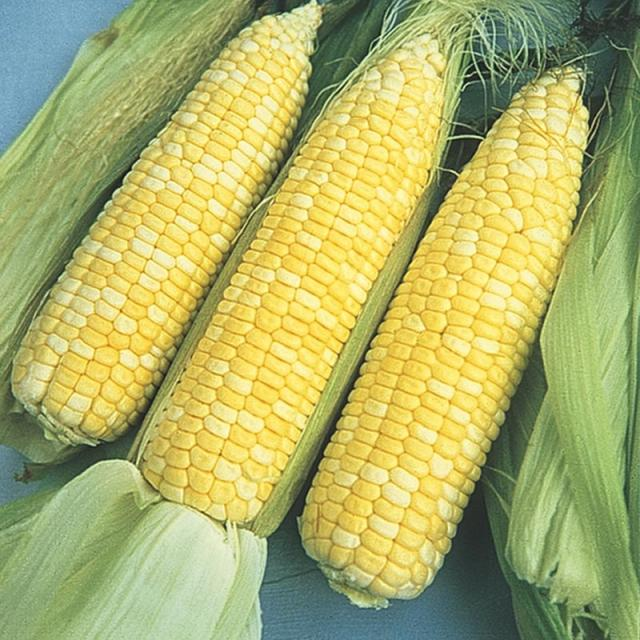corn: (280, 63, 608, 607), (124, 34, 477, 528), (6, 0, 342, 443)
